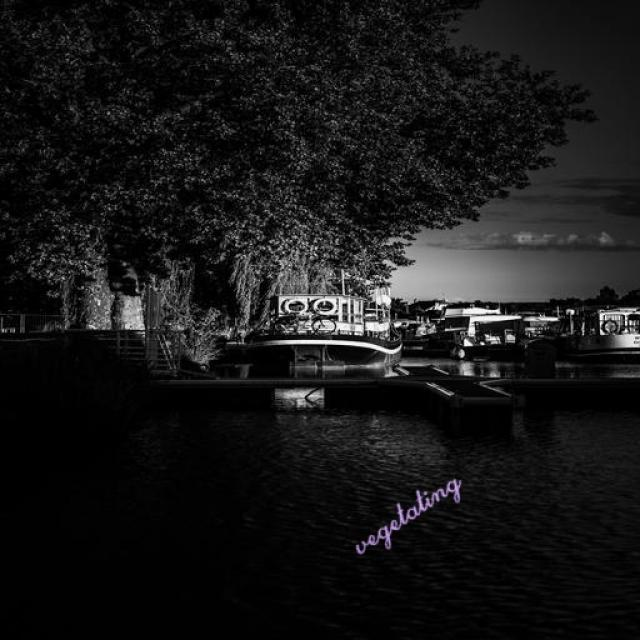watermark: (351, 461, 462, 559)
